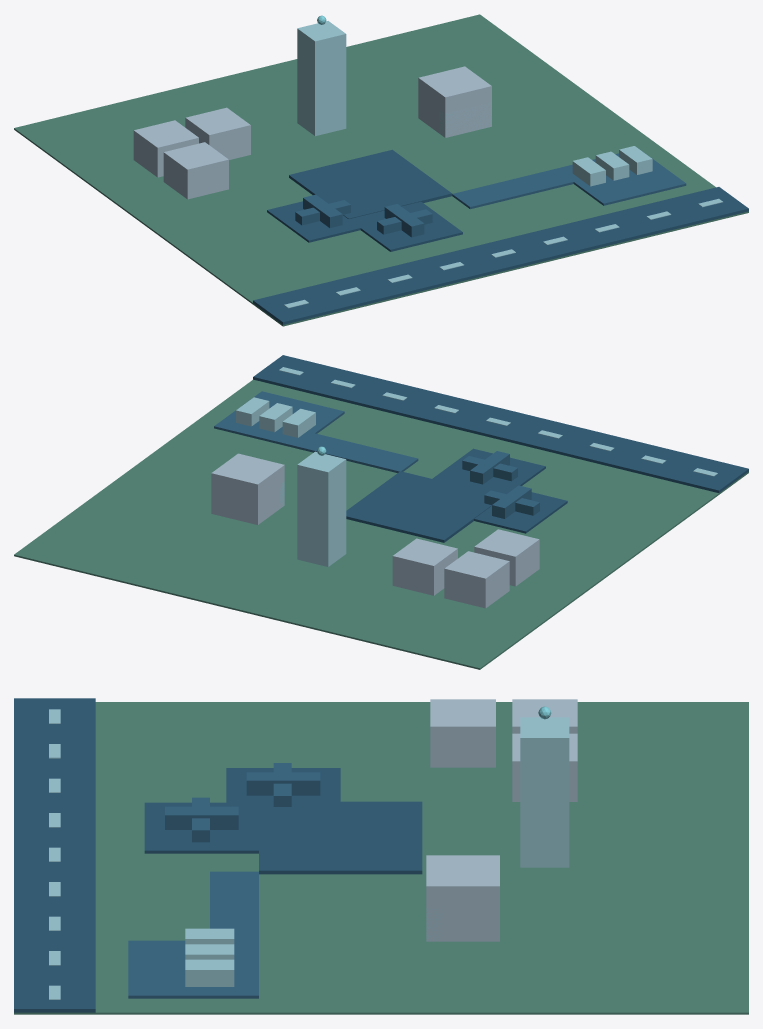
File: stage_10.glb
3 renders of one model, top to bottom at view 1: azimuth 30°, elevation 25°; view 2: azimuth 150°, elevation 25°; view 3: azimuth 270°, elevation 25°, orthographic. The views are drawn at different scales.
Visible parts, largest first — view 1: geometry_0; view 2: geometry_0; view 3: geometry_0.
Boxes of the visible parts, <box> form: geometry_0: <box>14,14,748,326</box>; geometry_0: <box>14,355,748,669</box>; geometry_0: <box>14,698,748,1014</box>.
Bounding box in the file's own units: 9 × 2.06 × 9.
